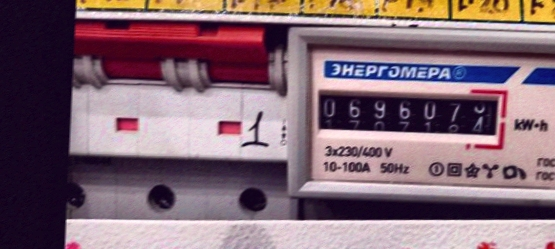0: (421, 99, 437, 122), (321, 97, 336, 119)
4: (471, 114, 485, 136)
6: (346, 97, 361, 119), (396, 100, 411, 120)
7: (446, 102, 462, 124)
9: (371, 99, 385, 120)
screen: (303, 79, 512, 148)
